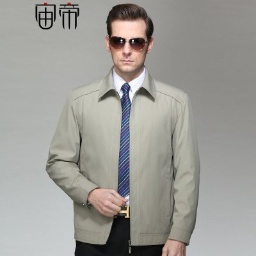face: (105, 4, 155, 72)
